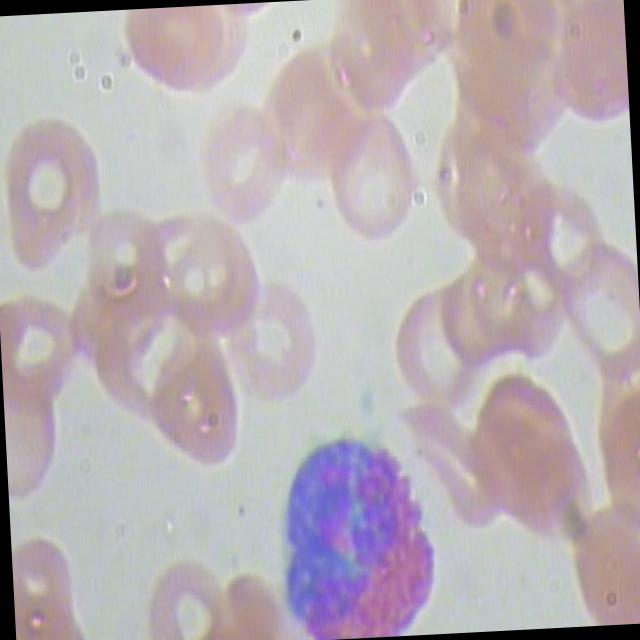RBC: (464, 374, 594, 556), (250, 38, 380, 207), (142, 324, 258, 493), (388, 390, 511, 538), (0, 114, 103, 283), (316, 114, 426, 254), (190, 97, 300, 237), (160, 215, 270, 355), (384, 278, 495, 415), (535, 0, 629, 147), (526, 183, 620, 326), (548, 244, 640, 387), (221, 279, 319, 410), (2, 366, 79, 528), (112, 6, 234, 106), (561, 486, 640, 627), (82, 210, 170, 330), (0, 291, 85, 411), (130, 556, 236, 640), (438, 276, 507, 375), (204, 563, 288, 640)
WBC: (259, 422, 445, 640)
